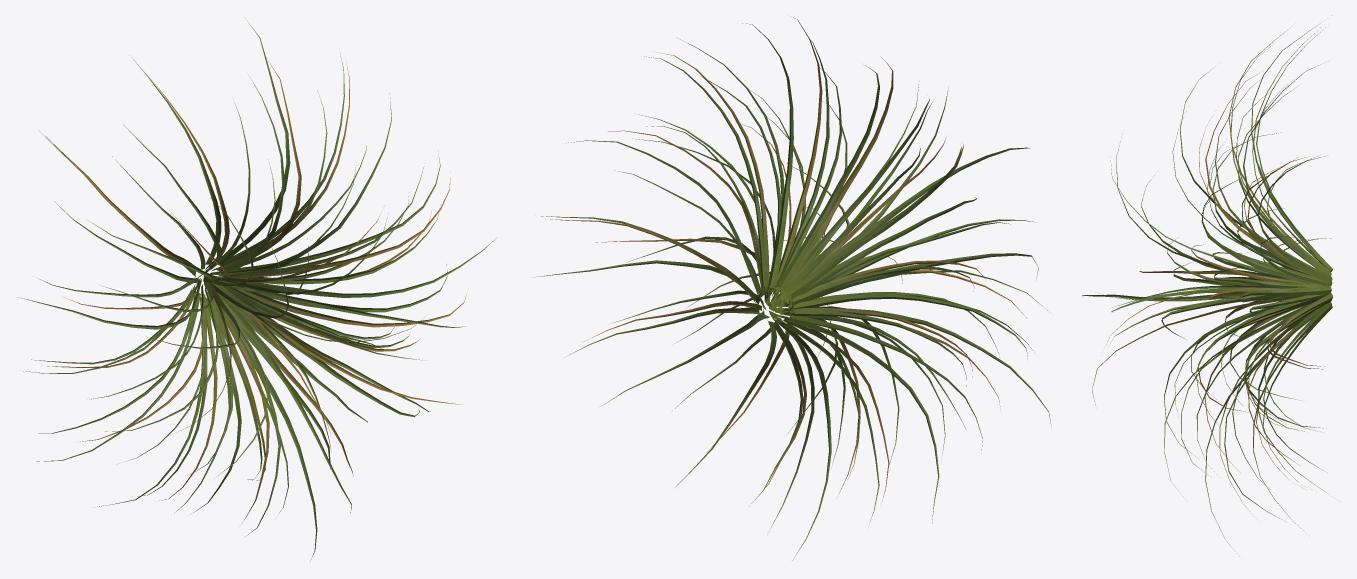
The picture shows the model from 3 angles, left to right: view 1: azimuth 30°, elevation 25°; view 2: azimuth 150°, elevation 25°; view 3: azimuth 270°, elevation 25°; orthographic projection. The views are drawn at different scales.
Parts seen in each view (by area): view 1: GC23_v1; view 2: GC23_v1; view 3: GC23_v1.
Part boxes in pixels (x1=…): GC23_v1: x1=17, y1=17, x2=495, y2=560; GC23_v1: x1=534, y1=16, x2=1051, y2=560; GC23_v1: x1=1082, y1=23, x2=1332, y2=558.
Size of the model in its own units: 2.61 by 2.87 by 1.36.
Materials: 2 (2 with a texture image).
